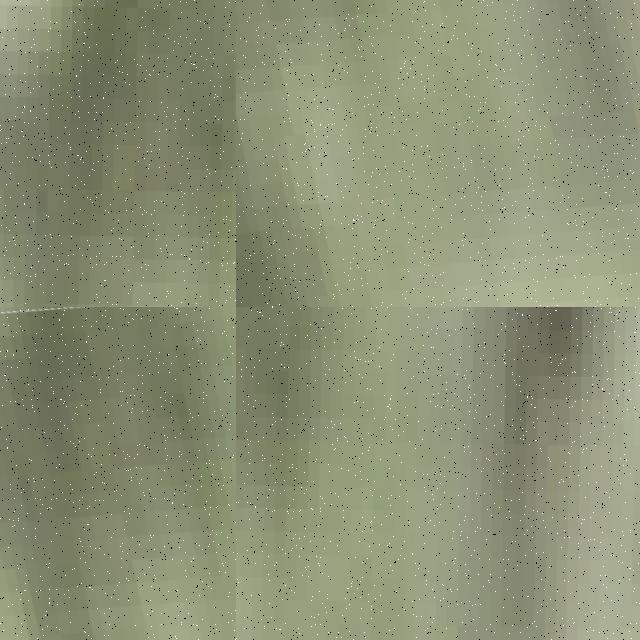drone: (236, 0, 640, 307), (0, 307, 236, 640)
